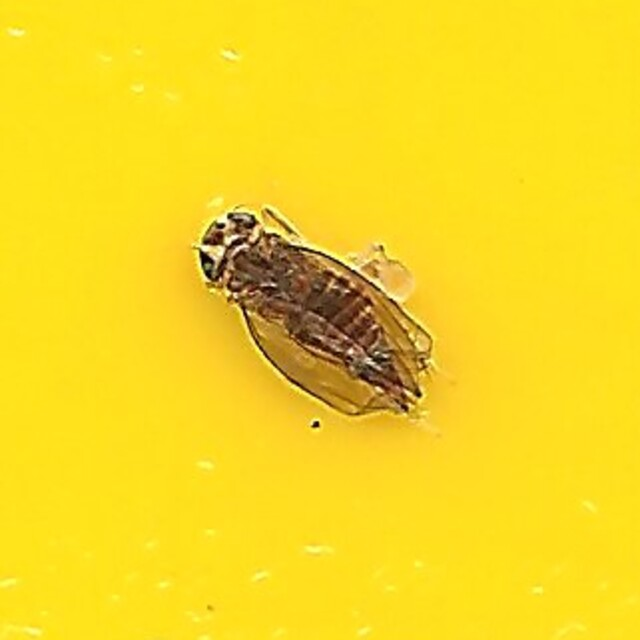Hemiptera: (199, 204, 441, 436)
